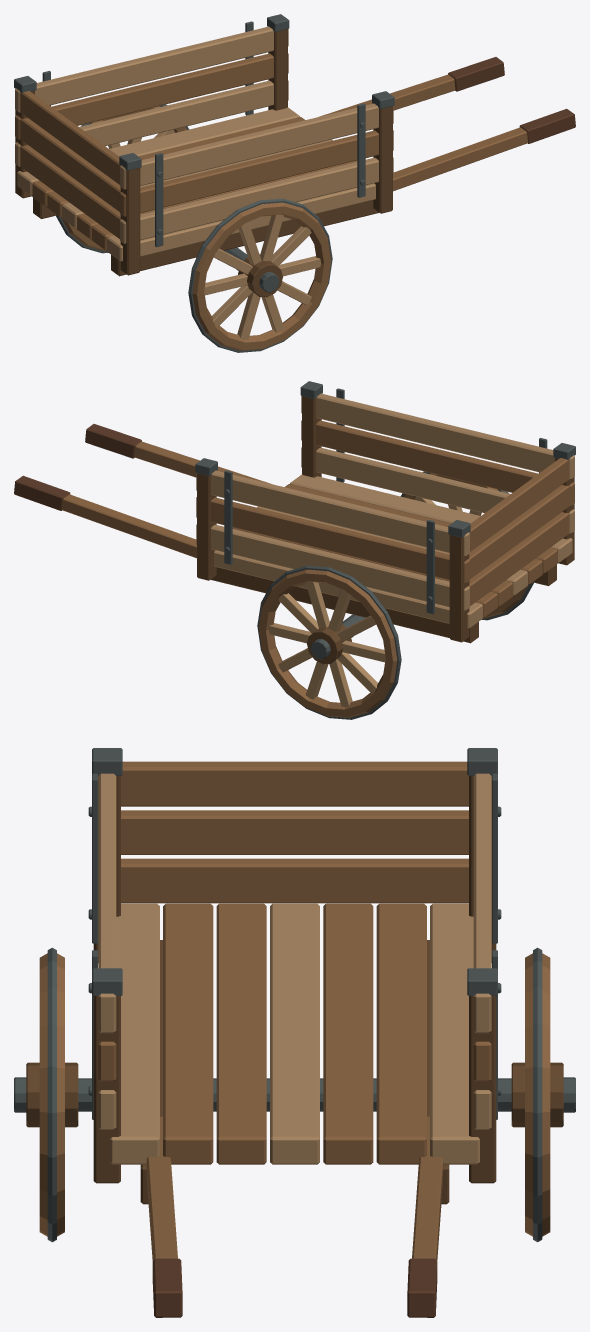
Rendered from SM_AskirDeliveryCart.glb.
The picture shows the model from 3 angles, top to bottom: view 1: azimuth 30°, elevation 25°; view 2: azimuth 150°, elevation 25°; view 3: azimuth 270°, elevation 25°; orthographic projection. The views are drawn at different scales.
Parts seen in each view (by area): view 1: SM_AskirDeliveryCart; view 2: SM_AskirDeliveryCart; view 3: SM_AskirDeliveryCart.
Part boxes in pixels (<box>): SM_AskirDeliveryCart: <box>14,14,575,352</box>; SM_AskirDeliveryCart: <box>14,381,575,719</box>; SM_AskirDeliveryCart: <box>14,748,575,1317</box>.
Bounding box in the file's own units: 2.98 × 1.28 × 1.74.
